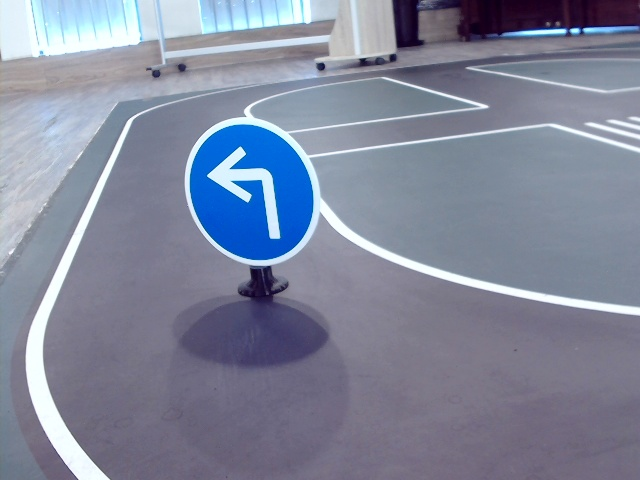turn_left: (209, 144, 289, 241)
